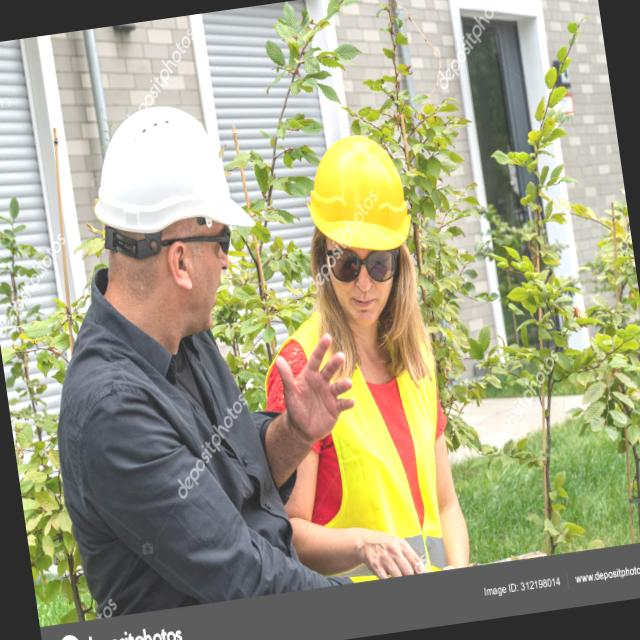goggles: (102, 216, 242, 290), (324, 241, 414, 300)
helmet: (84, 88, 268, 258), (296, 130, 424, 275)
no-vest: (52, 327, 278, 622)
vest: (273, 276, 466, 587)
